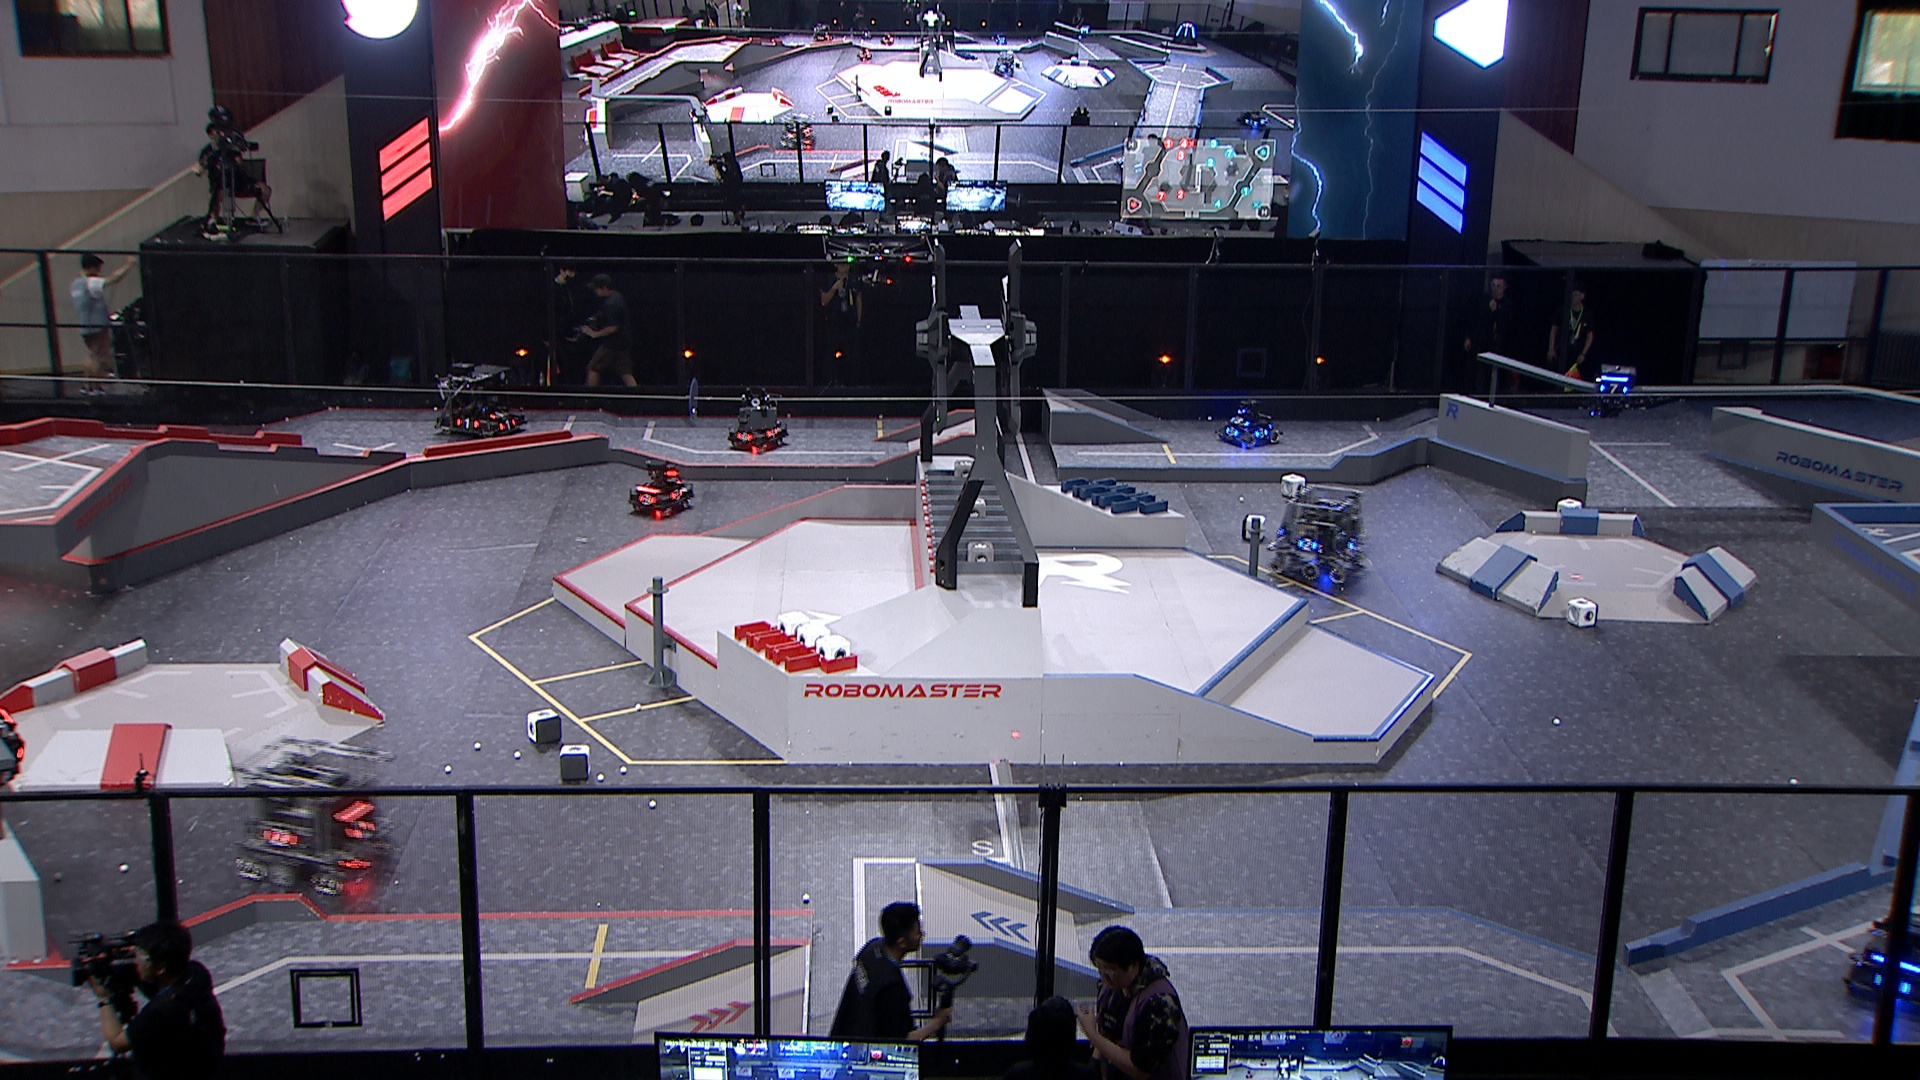armor: (261, 825, 301, 851), (344, 818, 377, 839), (1598, 381, 1629, 396), (1295, 535, 1319, 553), (454, 415, 481, 429), (636, 493, 659, 506), (733, 429, 754, 443), (498, 417, 517, 431), (1230, 415, 1251, 427), (667, 488, 684, 501), (489, 409, 509, 419), (1224, 425, 1240, 438), (765, 425, 779, 438), (1346, 535, 1358, 551), (1254, 427, 1269, 438)
car: (229, 736, 392, 897), (1263, 483, 1370, 585), (1840, 905, 1920, 1015), (433, 360, 526, 439), (626, 454, 694, 516), (1218, 396, 1282, 447), (728, 406, 790, 451)
ignore: (778, 109, 818, 146), (1167, 20, 1201, 47), (992, 50, 1019, 79), (1234, 109, 1271, 131), (686, 102, 709, 127)
watcher: (1589, 363, 1640, 419)
